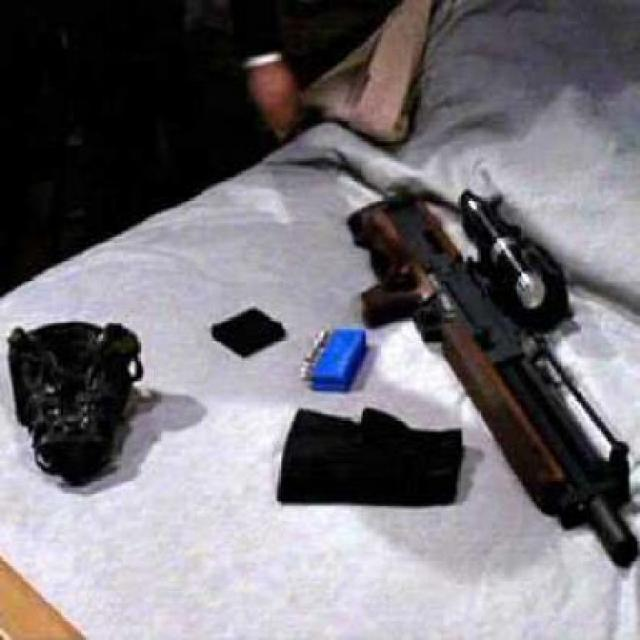weapon: (350, 183, 640, 562)
